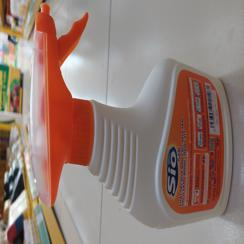sio: (21, 1, 235, 236)
